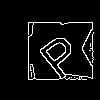P: (30, 24, 87, 82)
